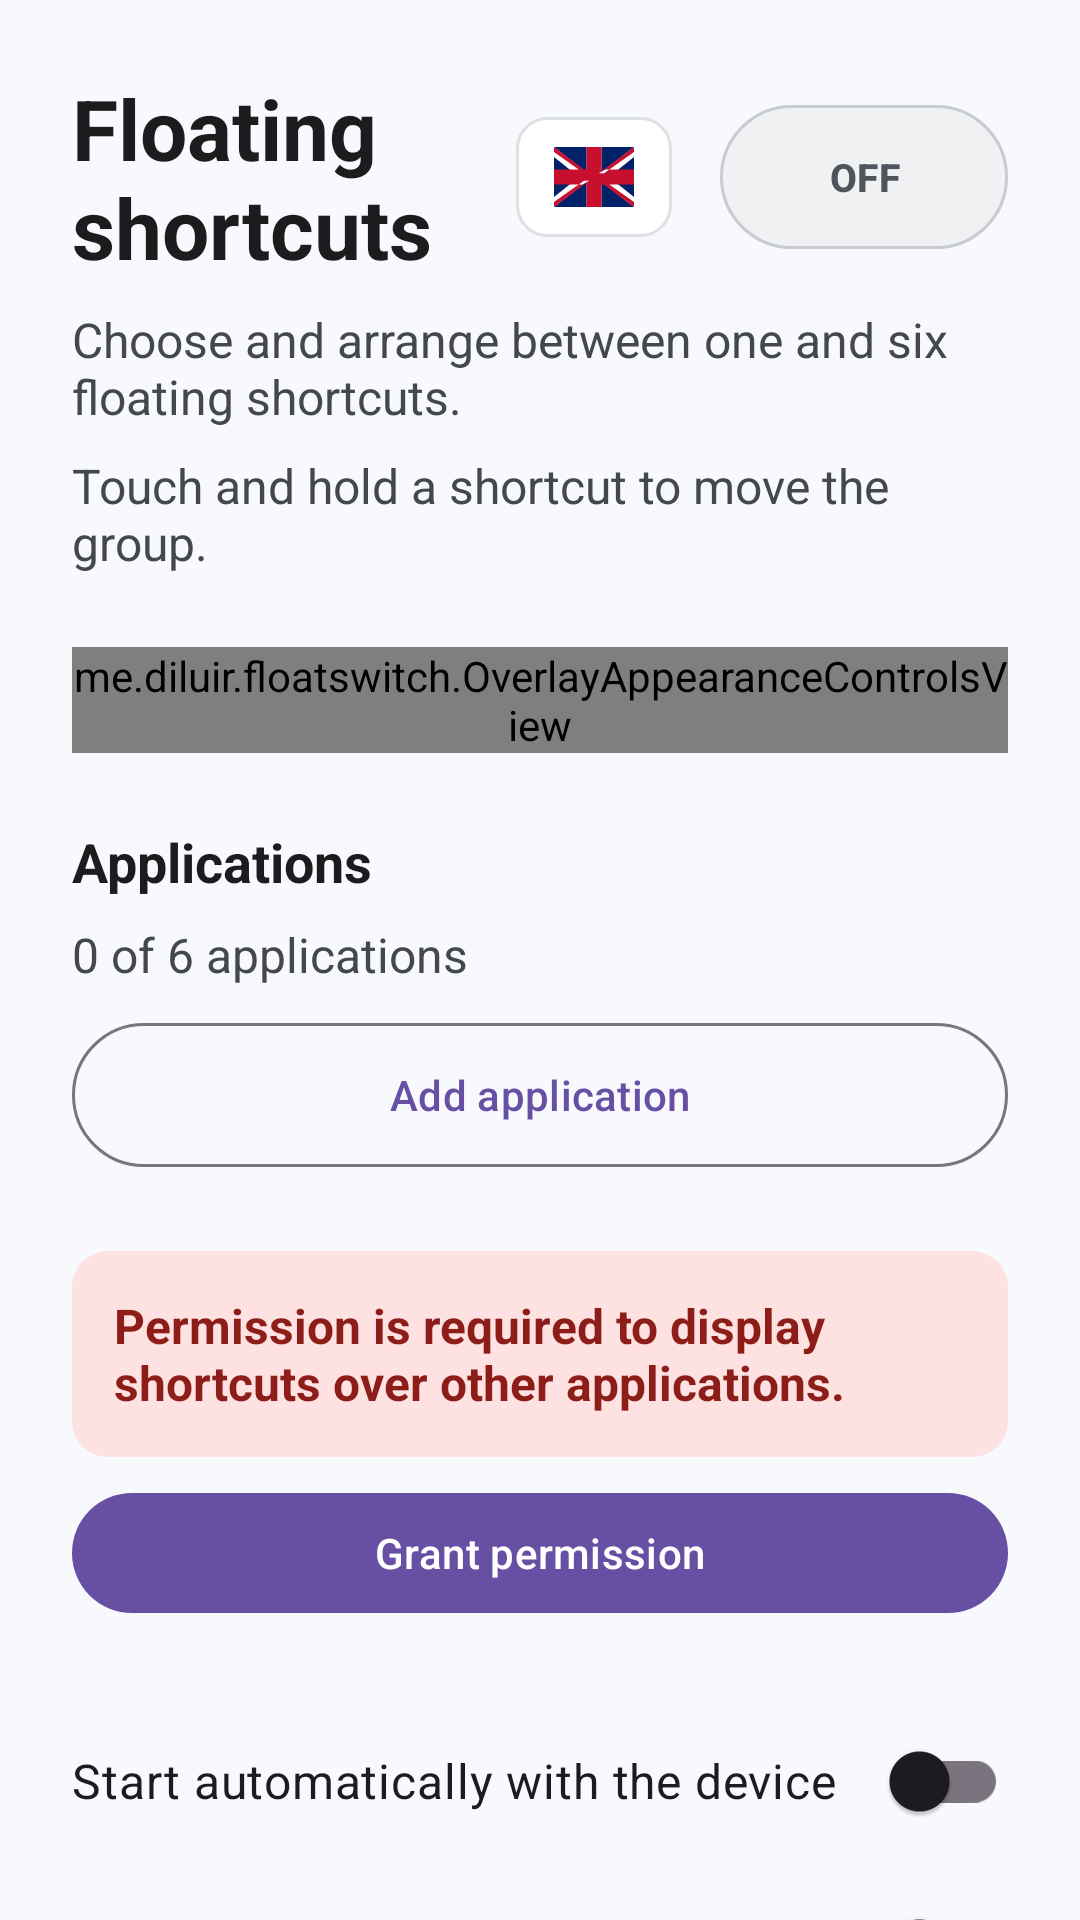

Icons on this 1080*1920 Android screen, each with the point to tap as (x,y):
flag united kingdom: (594,177)
